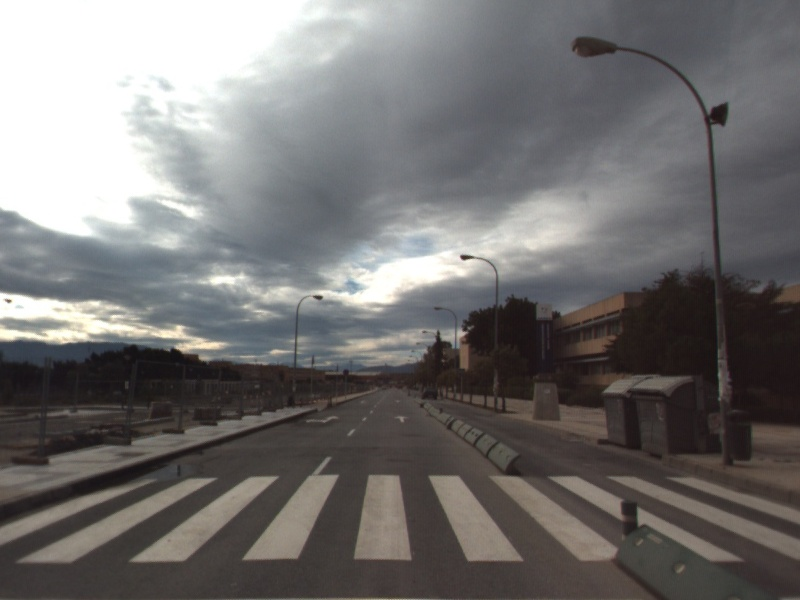STRAIGHT: (392, 413, 412, 424)
STRAIGHT_LEFT: (302, 413, 341, 426)
